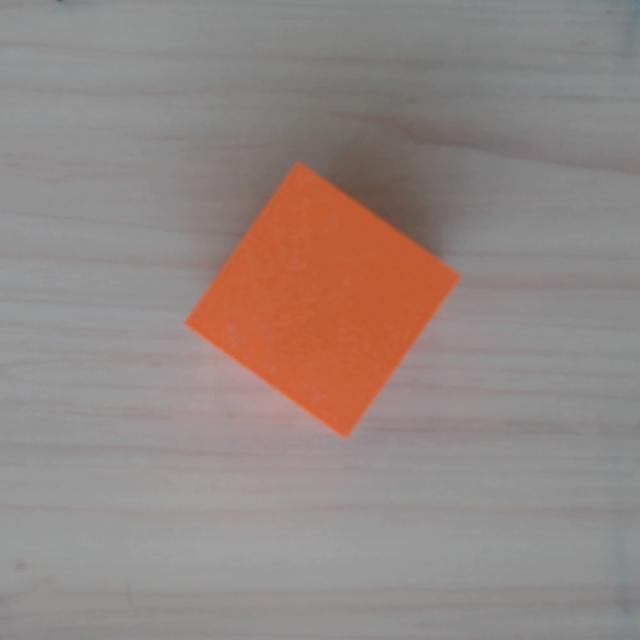Kubus-Jingga-505050: (181, 159, 462, 440)
